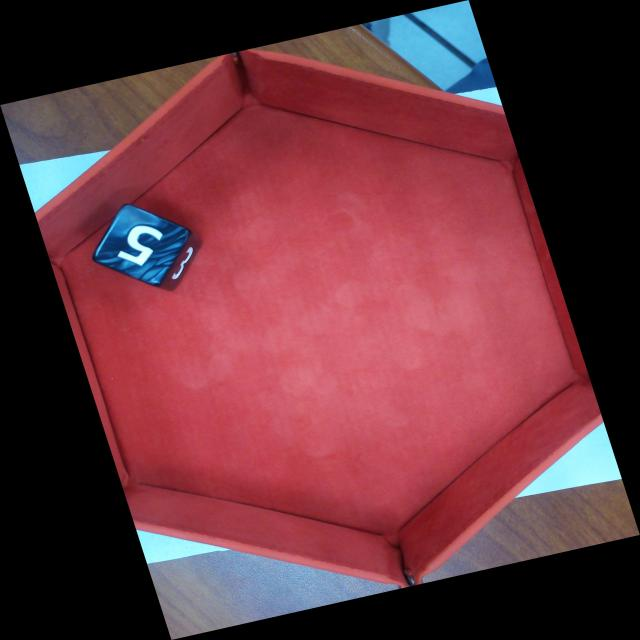dice: (87, 203, 194, 288)
